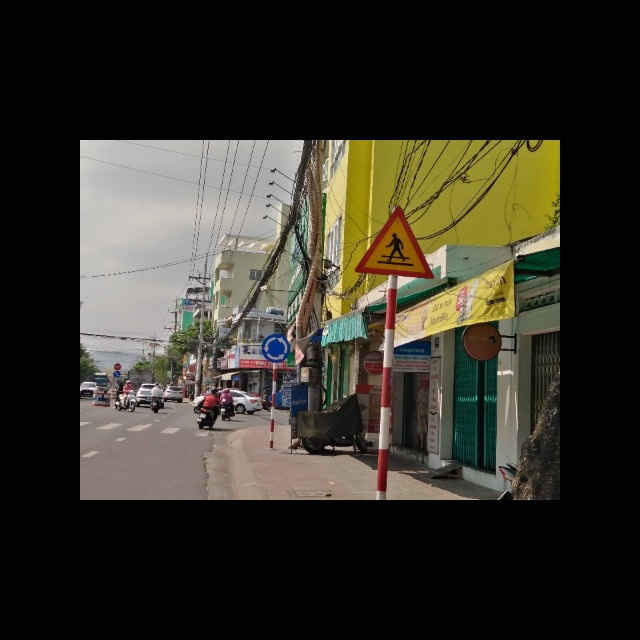Nơi giao nhau chạy theo vòng xuyến: (262, 334, 290, 363)
Đường người đi bộ sang đường: (354, 201, 435, 280)
